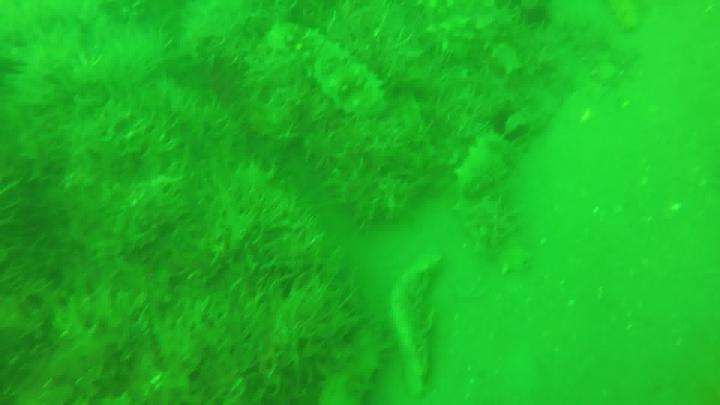holothurian: (294, 32, 387, 121), (407, 3, 513, 58), (455, 129, 515, 199)
